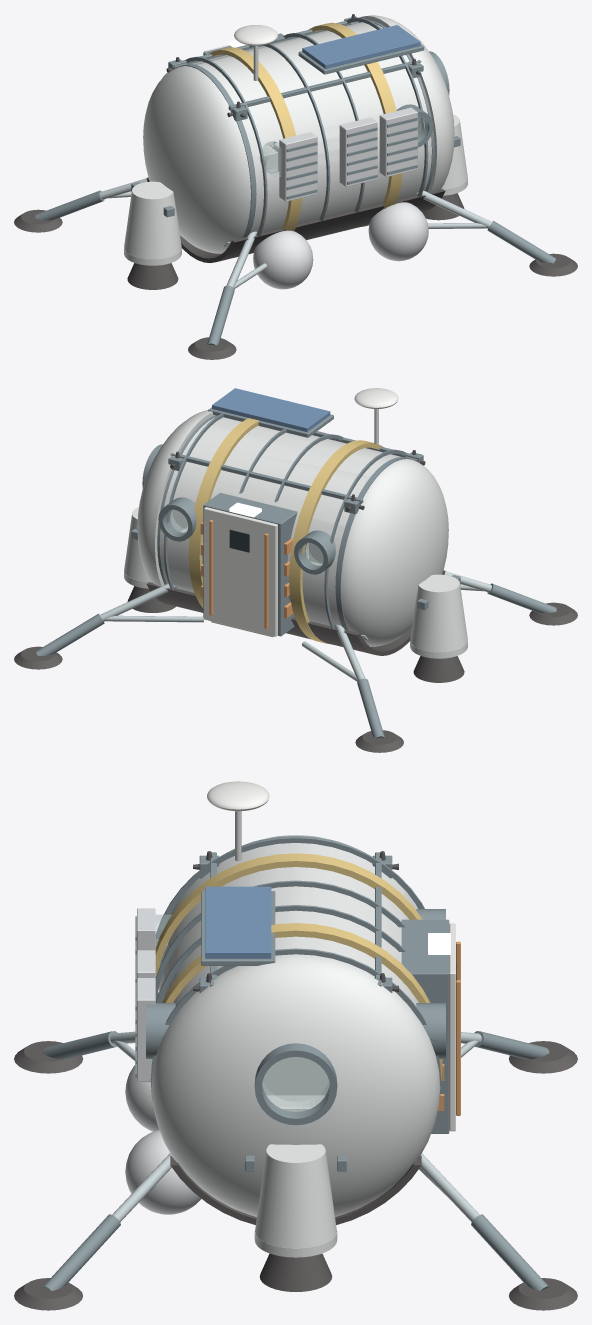
The model's file is crew_lander.glb.
The picture shows the model from 3 angles, top to bottom: view 1: azimuth 30°, elevation 25°; view 2: azimuth 150°, elevation 25°; view 3: azimuth 270°, elevation 25°; orthographic projection. The views are drawn at different scales.
Parts seen in each view (by area): view 1: cabin_hull_white_ceramic-col, radiator_panels_thermal_silver, propellant_tanks_thermal_silver, engine_pods_white_ceramic, thermal_blanket_thermal_gold, hull_seams_dark_alloy, belly_heat_shield_scorched, solar_wing_cells_cool_blue, landing_dampers_dark_alloy, footpads_scorched, landing_legs_alloy, engine_bells_scorched (+7 smaller); view 2: cabin_hull_white_ceramic-col, hatch_ramp_white_painted-col, thermal_blanket_thermal_gold, engine_pods_white_ceramic, solar_wing_cells_cool_blue, landing_legs_alloy, hatch_collar_dark_alloy, window_frames_dark_alloy, landing_dampers_dark_alloy, belly_heat_shield_scorched, footpads_scorched, hull_seams_dark_alloy (+9 smaller); view 3: cabin_hull_white_ceramic-col, engine_pods_white_ceramic, thermal_blanket_thermal_gold, hull_seams_dark_alloy, footpads_scorched, landing_dampers_dark_alloy, window_frames_dark_alloy, solar_wing_cells_cool_blue, propellant_tanks_thermal_silver, hatch_collar_dark_alloy, window_glass, radiator_panels_thermal_silver (+10 smaller).
Part boxes in pixels (x1=…): cabin_hull_white_ceramic-col: x1=143, y1=15, x2=454, y2=253; radiator_panels_thermal_silver: x1=279, y1=107, x2=417, y2=201; propellant_tanks_thermal_silver: x1=253, y1=202, x2=428, y2=289; engine_pods_white_ceramic: x1=124, y1=114, x2=467, y2=265; thermal_blanket_thermal_gold: x1=208, y1=22, x2=402, y2=231; hull_seams_dark_alloy: x1=185, y1=17, x2=428, y2=236; belly_heat_shield_scorched: x1=146, y1=147, x2=445, y2=262; solar_wing_cells_cool_blue: x1=302, y1=25, x2=420, y2=68; landing_dampers_dark_alloy: x1=35, y1=190, x2=556, y2=345; footpads_scorched: x1=14, y1=209, x2=577, y2=359; landing_legs_alloy: x1=100, y1=178, x2=491, y2=288; engine_bells_scorched: x1=127, y1=193, x2=464, y2=289; cabin_hull_white_ceramic-col: x1=137, y1=410, x2=448, y2=646; hatch_ramp_white_painted-col: x1=204, y1=507, x2=277, y2=636; thermal_blanket_thermal_gold: x1=188, y1=418, x2=383, y2=644; engine_pods_white_ceramic: x1=124, y1=507, x2=467, y2=658; solar_wing_cells_cool_blue: x1=212, y1=388, x2=330, y2=431; landing_legs_alloy: x1=100, y1=571, x2=491, y2=681; hatch_collar_dark_alloy: x1=203, y1=492, x2=297, y2=636; window_frames_dark_alloy: x1=142, y1=444, x2=335, y2=574; landing_dampers_dark_alloy: x1=35, y1=583, x2=556, y2=738; belly_heat_shield_scorched: x1=146, y1=570, x2=445, y2=655; footpads_scorched: x1=14, y1=602, x2=577, y2=752; hull_seams_dark_alloy: x1=163, y1=413, x2=406, y2=629; cabin_hull_white_ceramic-col: x1=151, y1=835, x2=440, y2=1216; engine_pods_white_ceramic: x1=254, y1=1144, x2=337, y2=1257; thermal_blanket_thermal_gold: x1=155, y1=853, x2=442, y2=1080; hull_seams_dark_alloy: x1=150, y1=837, x2=441, y2=1100; footpads_scorched: x1=14, y1=1041, x2=577, y2=1310; landing_dampers_dark_alloy: x1=42, y1=1031, x2=549, y2=1290; window_frames_dark_alloy: x1=146, y1=909, x2=445, y2=1125; solar_wing_cells_cool_blue: x1=205, y1=886, x2=271, y2=958; propellant_tanks_thermal_silver: x1=125, y1=1065, x2=201, y2=1214; hatch_collar_dark_alloy: x1=401, y1=919, x2=449, y2=1133; window_glass: x1=155, y1=914, x2=329, y2=1117; radiator_panels_thermal_silver: x1=135, y1=908, x2=155, y2=1081.
Bounding box in the file's own units: 7.64 × 4.67 × 6.84.
